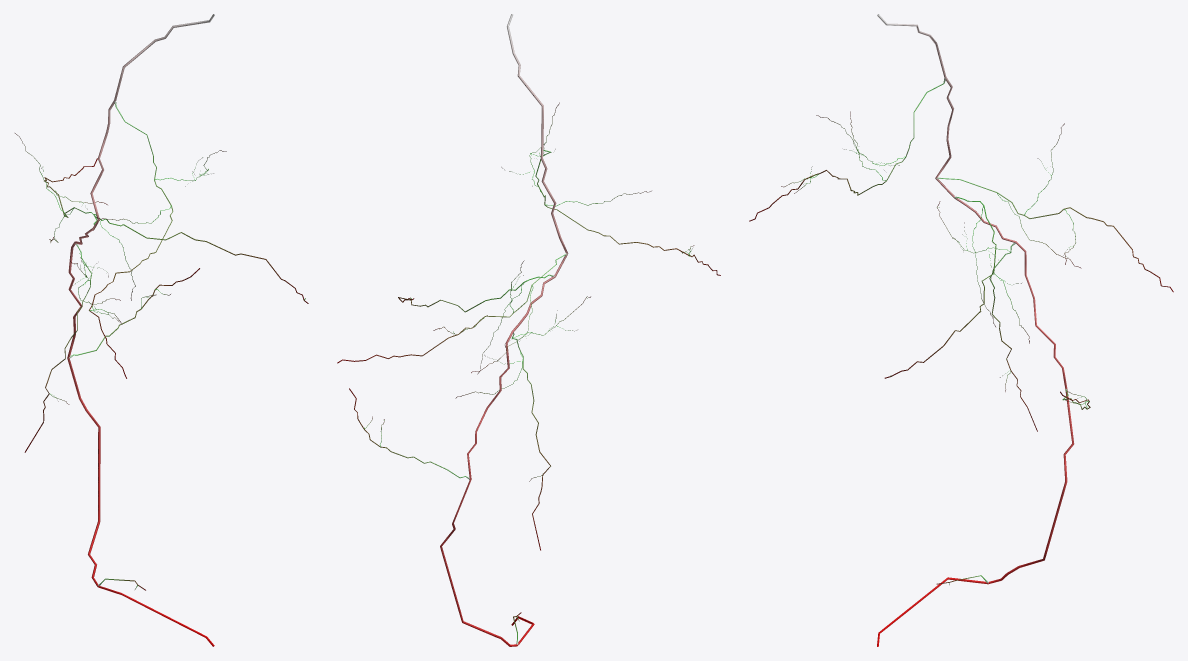
File: SM_Lightning_02.fbx
The picture shows the model from 3 angles, left to right: view 1: azimuth 30°, elevation 25°; view 2: azimuth 150°, elevation 25°; view 3: azimuth 270°, elevation 25°; orthographic projection. The views are drawn at different scales.
Visible parts, largest first — view 1: timeshift3; view 2: timeshift3; view 3: timeshift3.
Boxes of the visible parts, x1,y1,x2,y2 form: timeshift3: (15, 14, 308, 646); timeshift3: (337, 14, 720, 646); timeshift3: (749, 14, 1173, 646).
Bounding box in the file's own units: 42.12 × 100 × 60.78.
